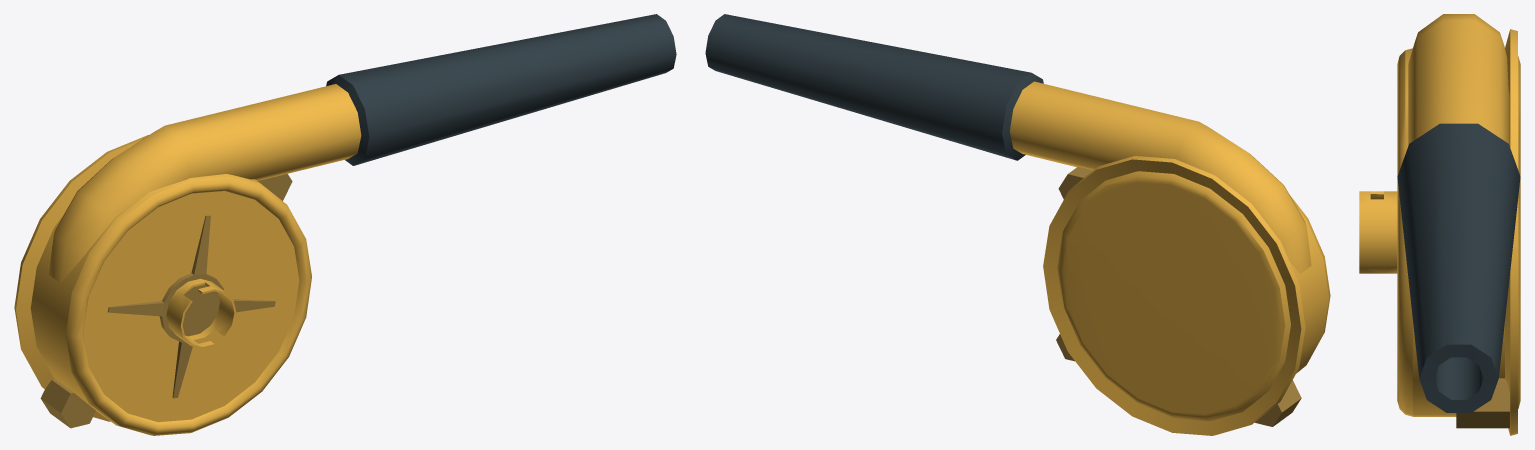
The model's file is Vinter_01.fbx.
3 renders of one model, left to right at view 1: azimuth 30°, elevation 25°; view 2: azimuth 150°, elevation 25°; view 3: azimuth 270°, elevation 25°, orthographic. The views are drawn at different scales.
Parts seen in each view (by area): view 1: pCylinder35; view 2: pCylinder35; view 3: pCylinder35.
Boxes of the visible parts, x1,y1,x2,y2 form: pCylinder35: (14, 14, 676, 435); pCylinder35: (705, 14, 1330, 435); pCylinder35: (1359, 14, 1520, 435).
Bounding box in the file's own units: 20.17 × 9.54 × 3.42.
Materials: 1 (1 with a texture image).
